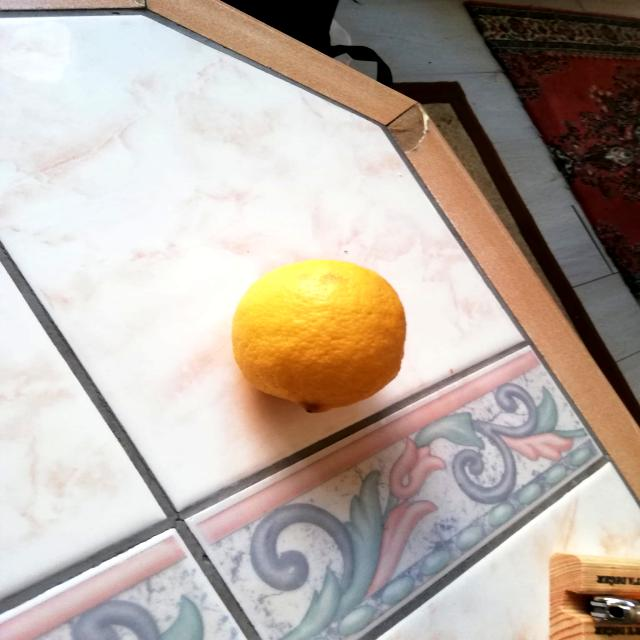lemon: (225, 249, 419, 422)
